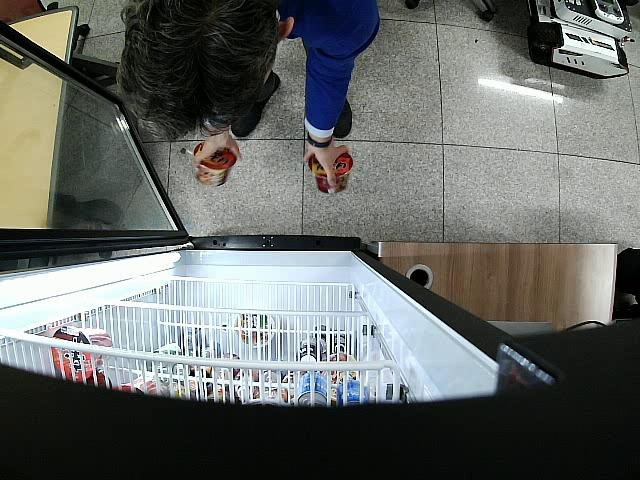00_hand: (303, 145, 349, 186), (195, 132, 241, 167)
05_nuguri_L: (193, 142, 237, 187), (309, 153, 353, 193)
